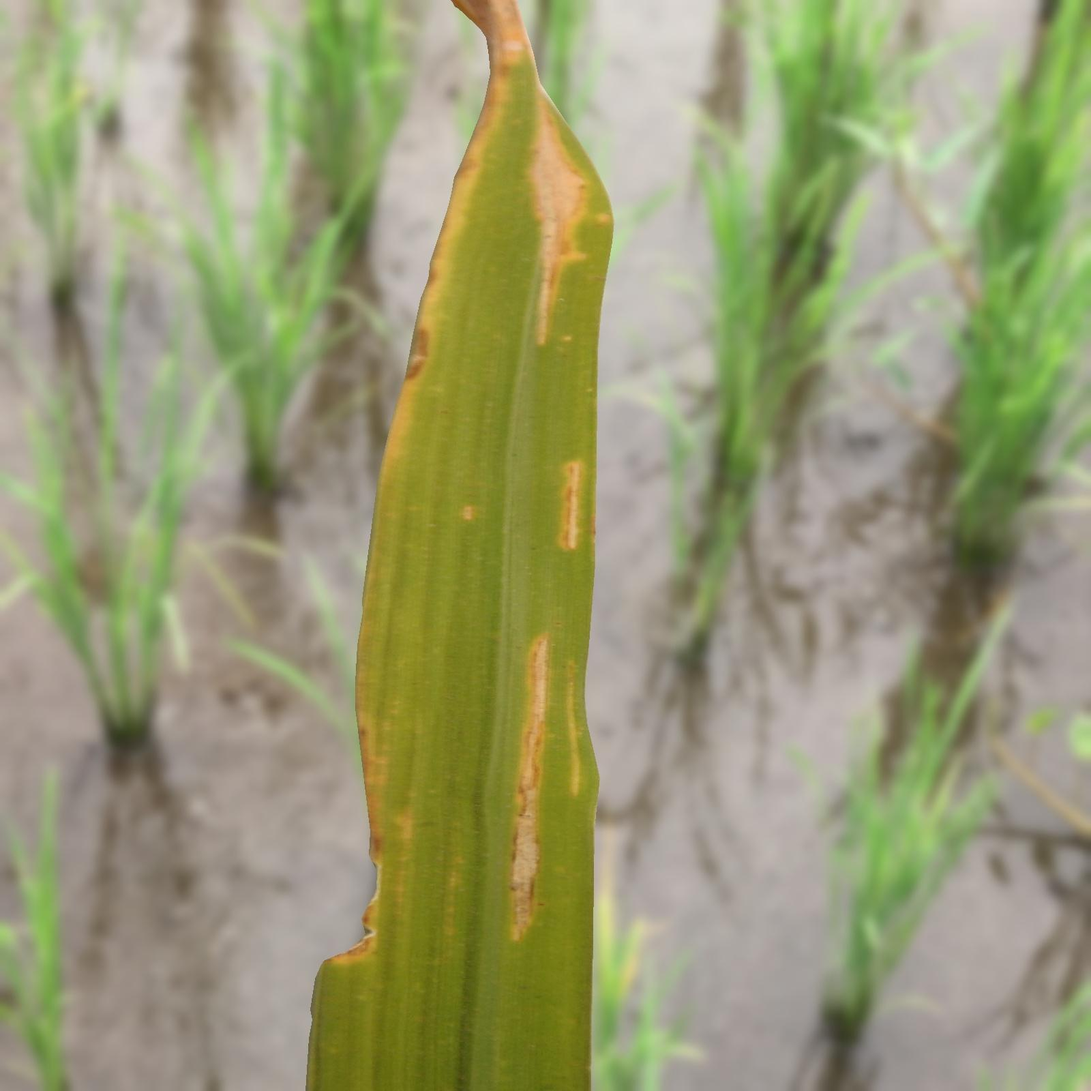BLS: (380, 0, 533, 477), (524, 83, 589, 345), (506, 631, 552, 945), (556, 459, 586, 553), (565, 661, 584, 795)
LEAF: (306, 0, 614, 1090)
